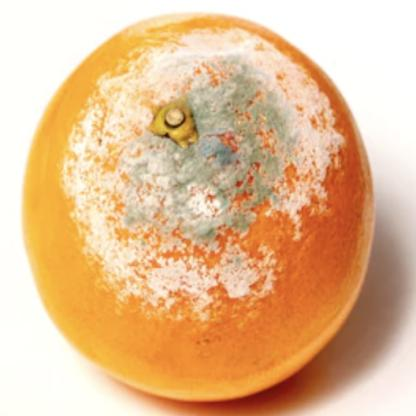rotten: (24, 15, 374, 399)
